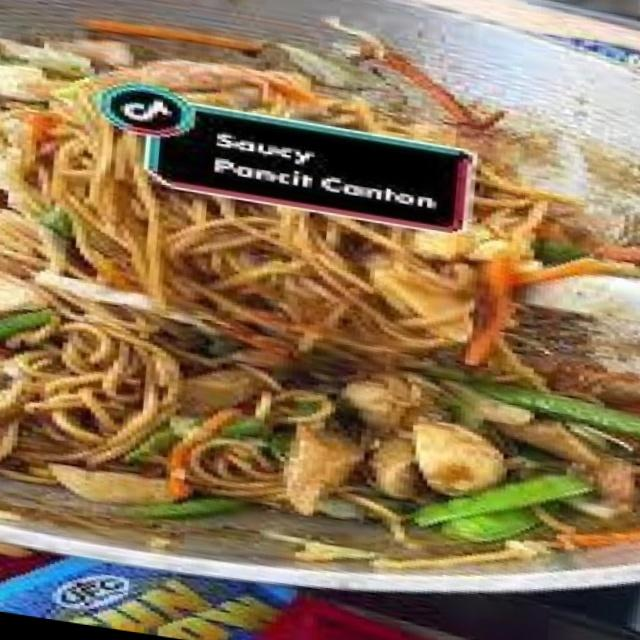pancit bihon: (0, 53, 639, 541)
